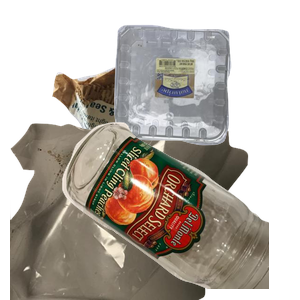cardboard: (50, 62, 228, 226)
glass: (60, 120, 300, 300)
plastic: (112, 22, 300, 160)
trash: (10, 120, 250, 300)
